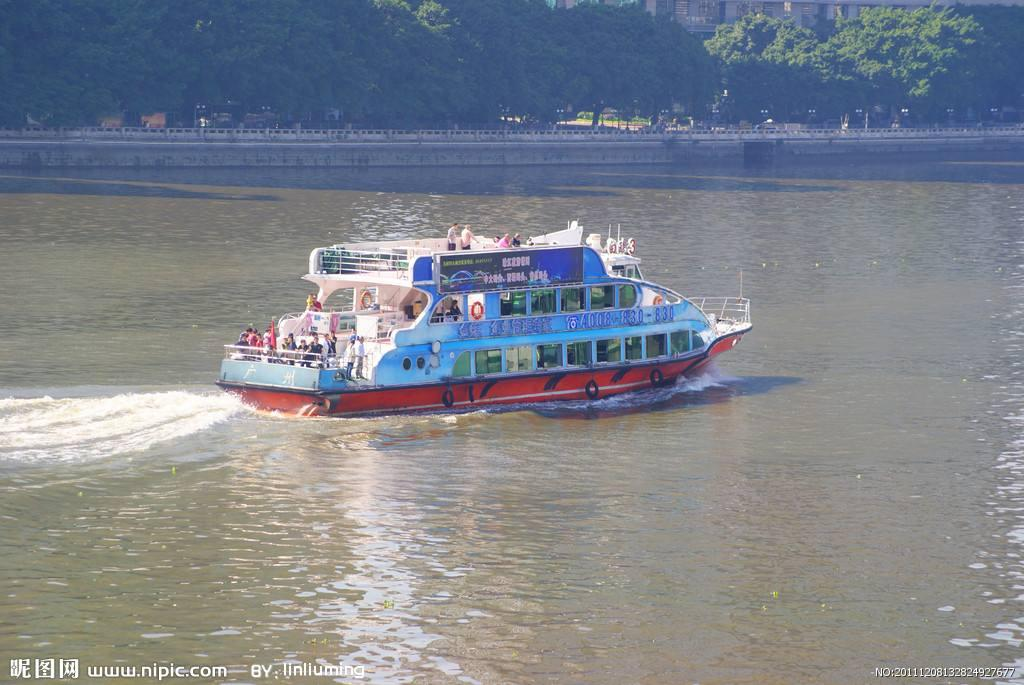otherboat: (214, 207, 758, 422)
